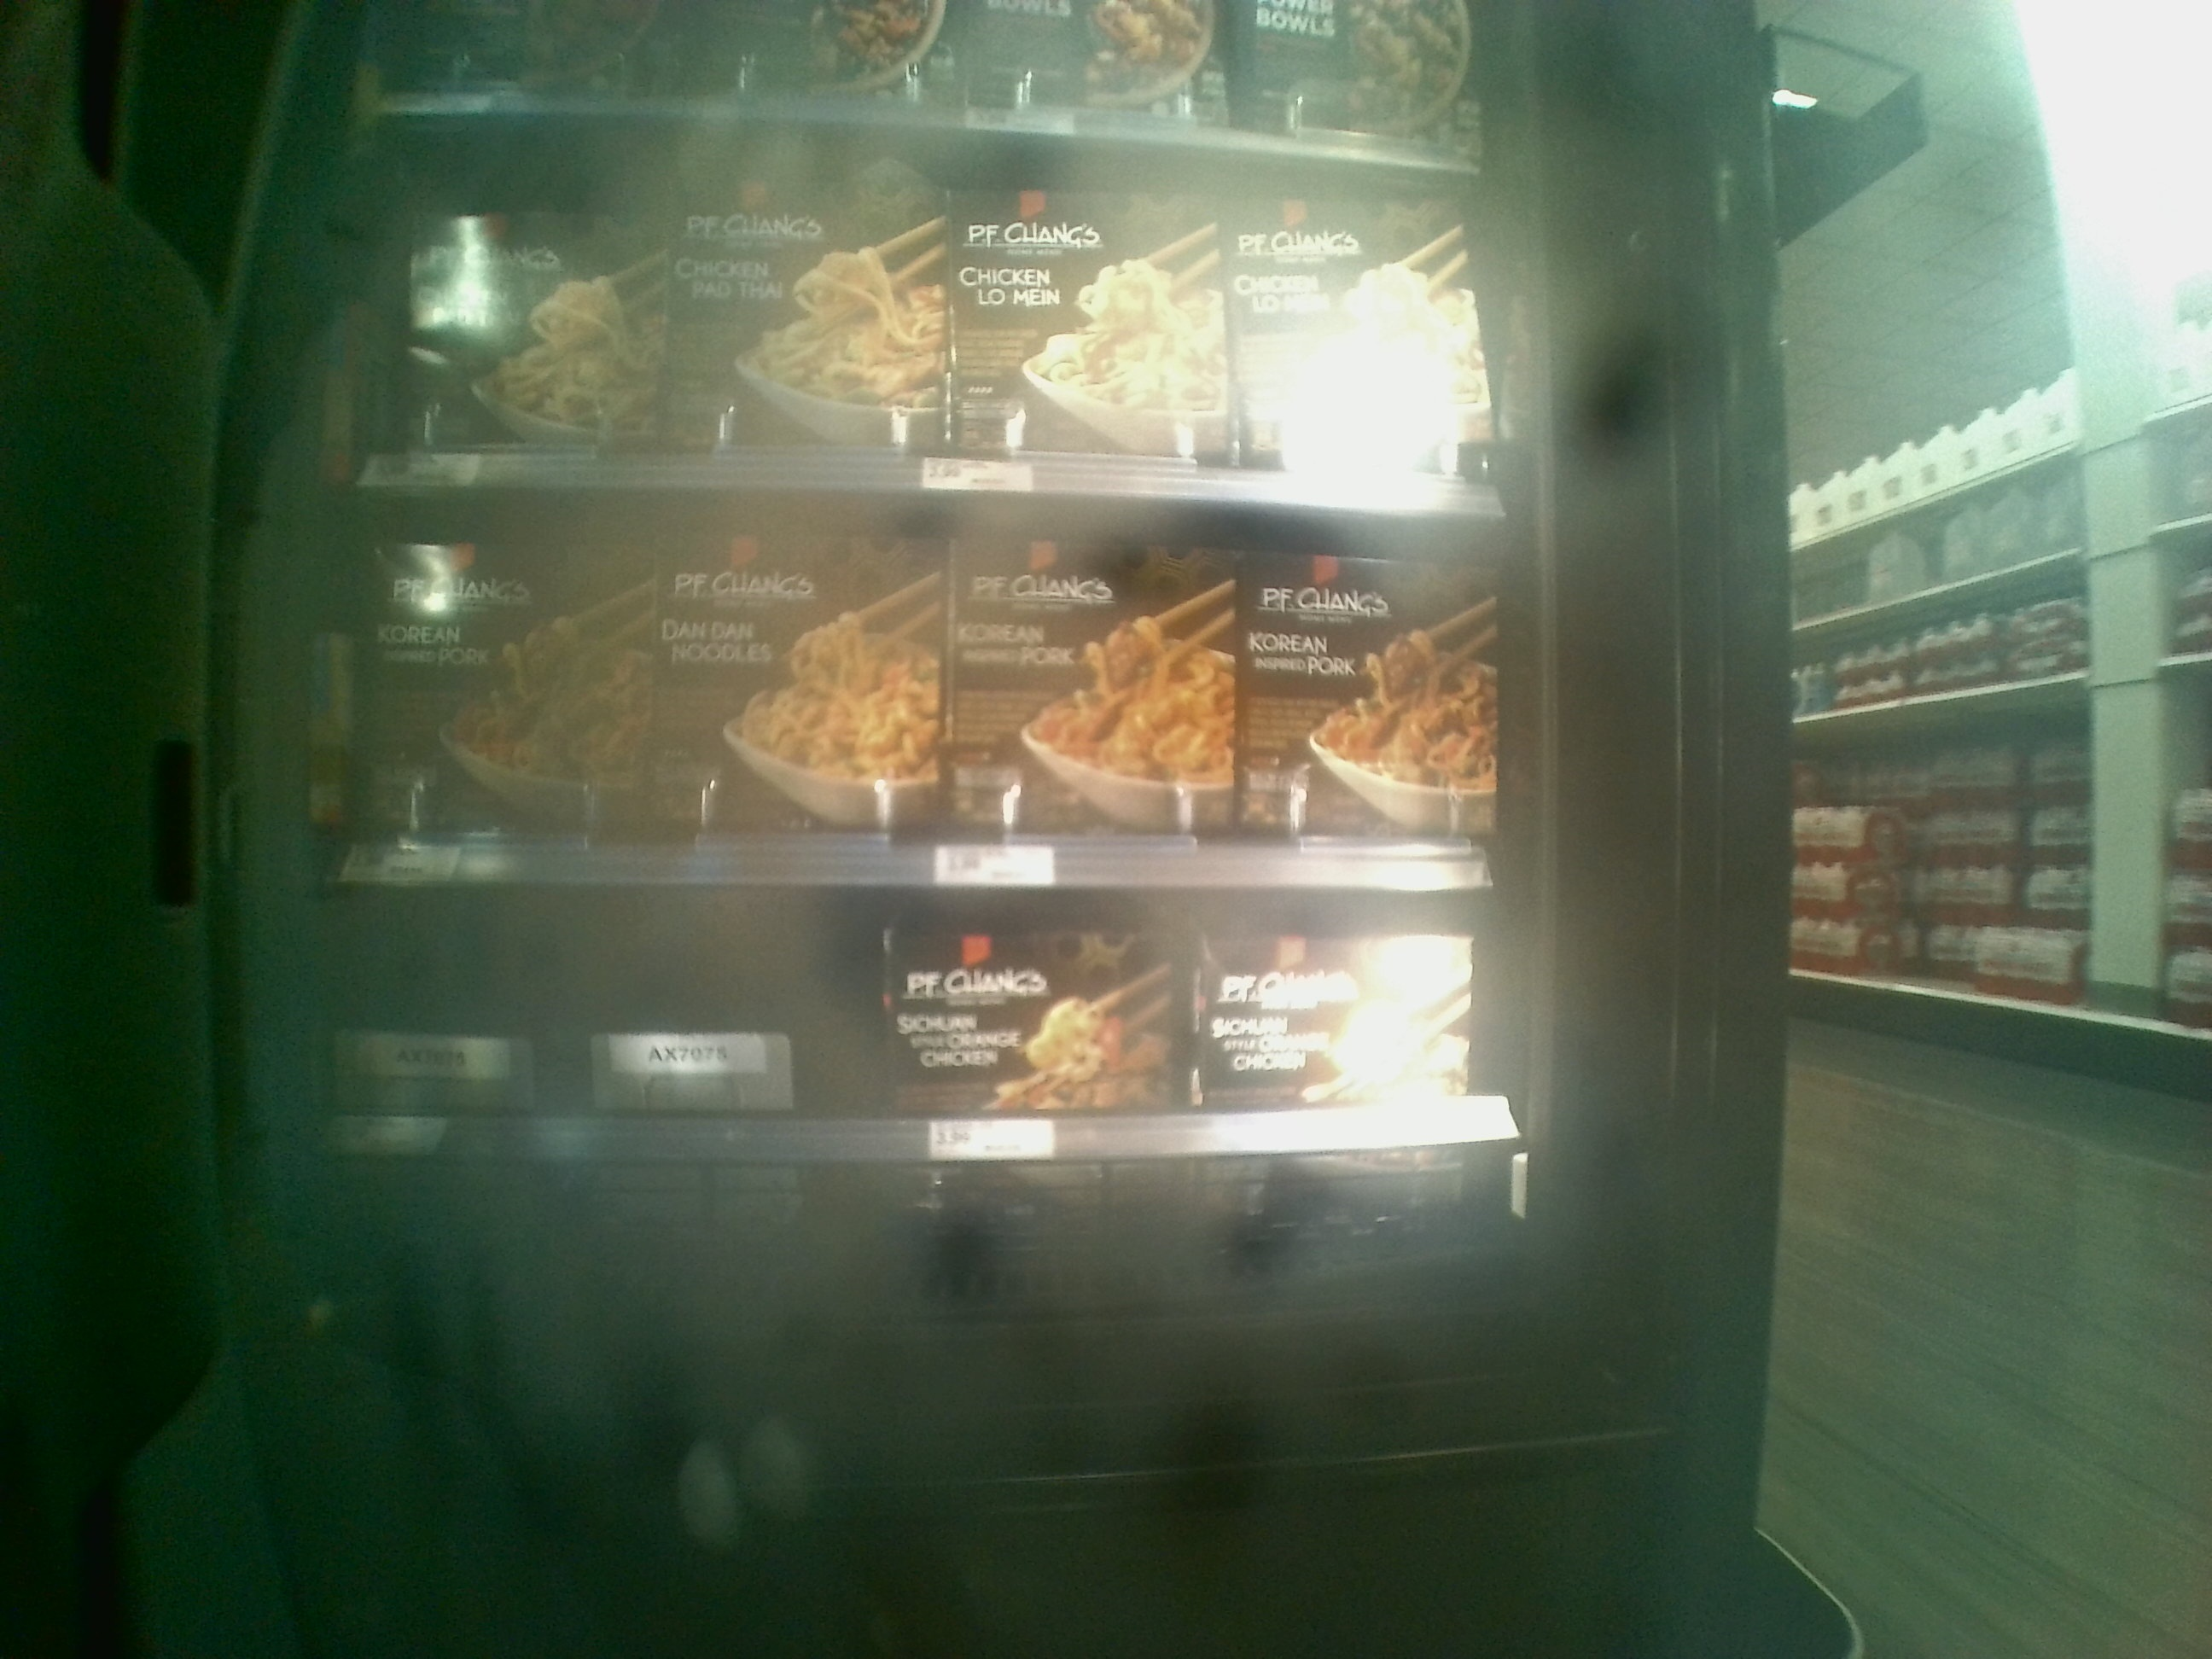shelf: (336, 887, 1531, 1345), (338, 476, 1505, 889), (345, 108, 1517, 511)
